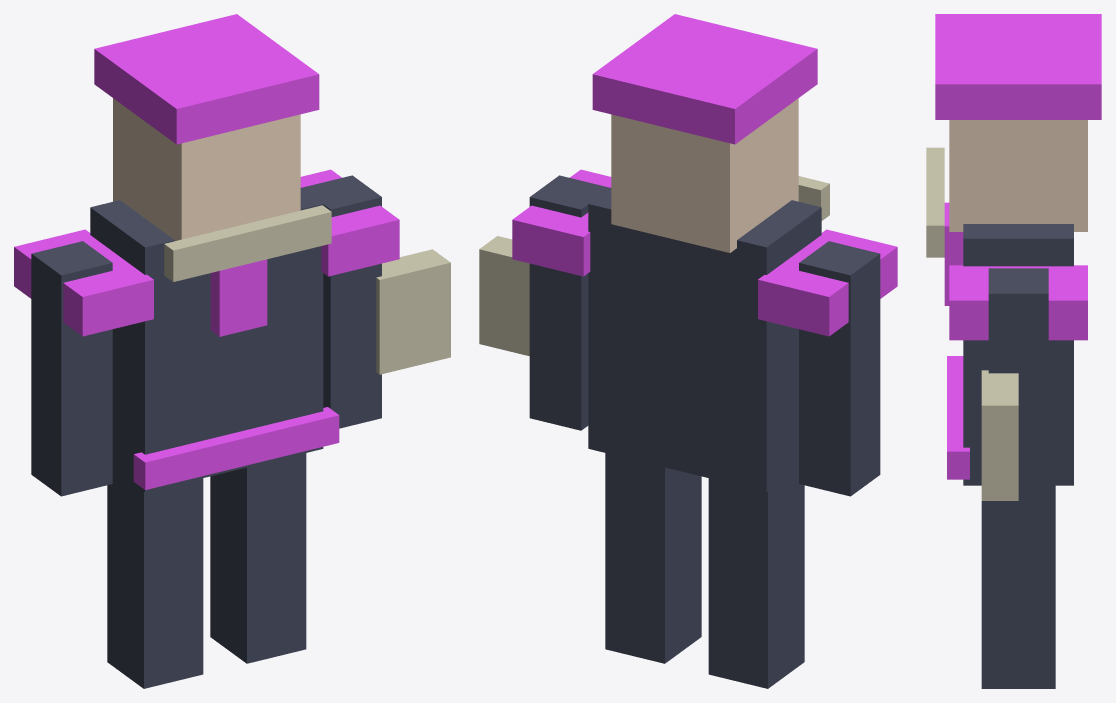
Rendered from 06_vale_whispercoil_tactician_near_executive.glb.
The picture shows the model from 3 angles, left to right: view 1: azimuth 30°, elevation 25°; view 2: azimuth 150°, elevation 25°; view 3: azimuth 270°, elevation 25°; orthographic projection.
Visible parts, largest first — view 1: Vale Whispercoil, Tactician near Executive; view 2: Vale Whispercoil, Tactician near Executive; view 3: Vale Whispercoil, Tactician near Executive.
Part boxes in pixels (x1=…): Vale Whispercoil, Tactician near Executive: x1=14, y1=14, x2=450, y2=688; Vale Whispercoil, Tactician near Executive: x1=479, y1=14, x2=897, y2=688; Vale Whispercoil, Tactician near Executive: x1=926, y1=14, x2=1101, y2=688.
Size of the model in its own units: 0.9428 by 1.39 by 0.3674.
